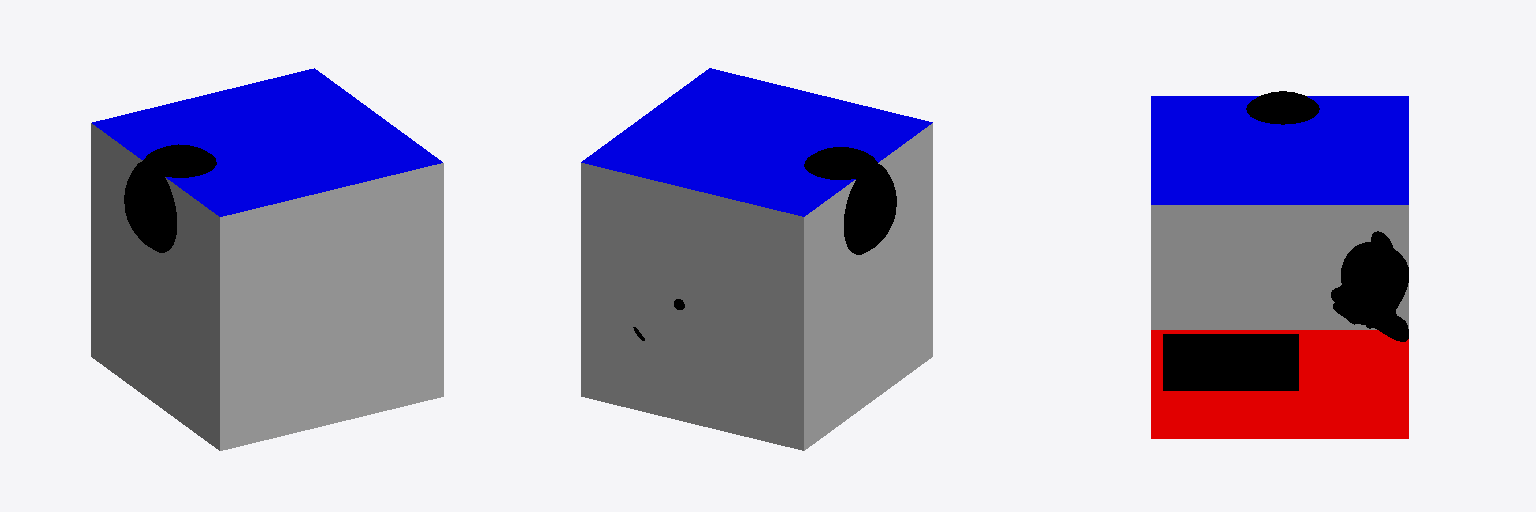
File: monkey.obj
3 views of the same model, side by side, from view 1: azimuth 30°, elevation 25°; view 2: azimuth 150°, elevation 25°; view 3: azimuth 270°, elevation 25° (orthographic).
Parts seen in each view (by area): view 1: Cube, Sphere; view 2: Cube, Sphere; view 3: Cube, Plane.001, Suzanne, Sphere.
Part boxes in pixels (left/top/right/bottom): Cube: left=91, top=68, right=443, bottom=450; Sphere: left=124, top=144, right=216, bottom=252; Cube: left=581, top=68, right=932, bottom=450; Sphere: left=804, top=147, right=896, bottom=254; Cube: left=1151, top=96, right=1408, bottom=438; Plane.001: left=1163, top=334, right=1298, bottom=390; Suzanne: left=1331, top=231, right=1408, bottom=341; Sphere: left=1246, top=91, right=1319, bottom=124.
Bounding box in the file's own units: 2.2 × 2.11 × 2.01.